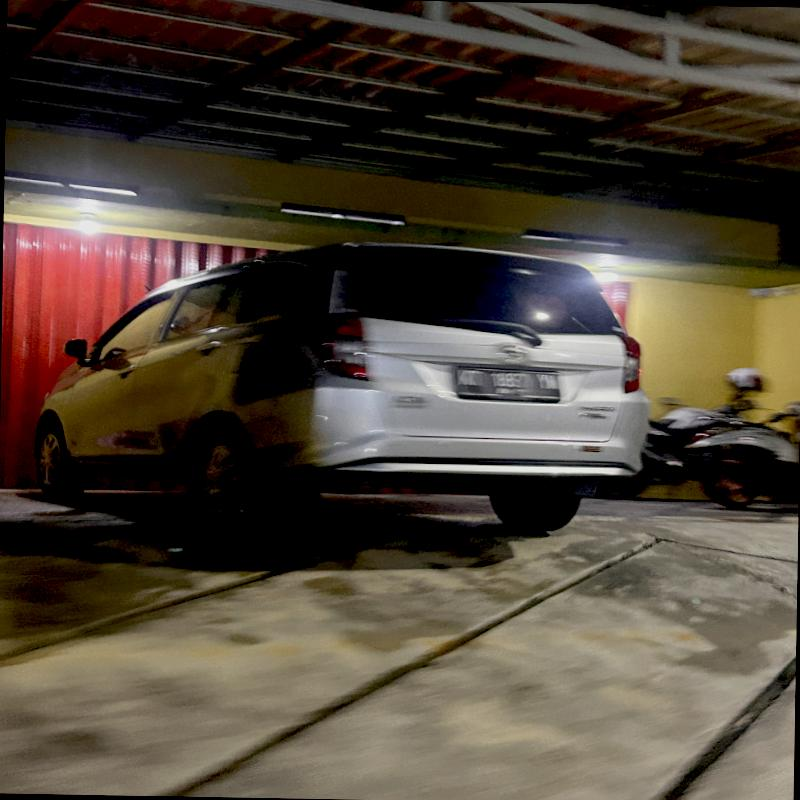license plate on a car: (455, 358, 572, 404)
